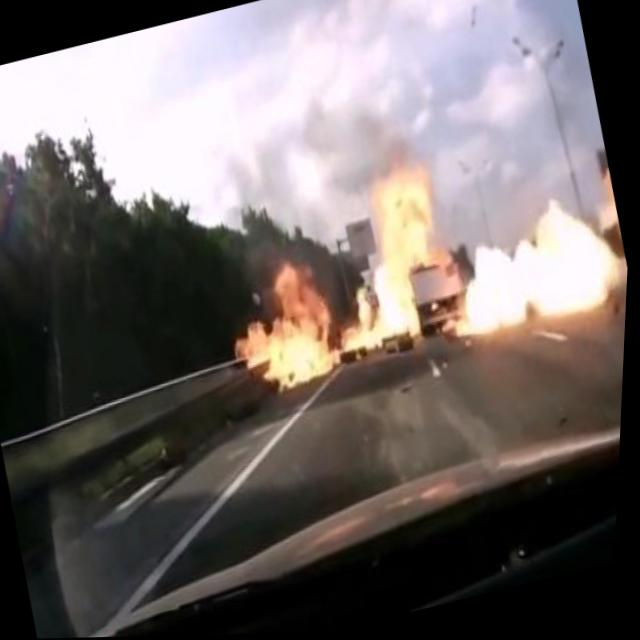fire: (300, 137, 471, 376), (436, 180, 633, 364), (215, 242, 351, 410)
